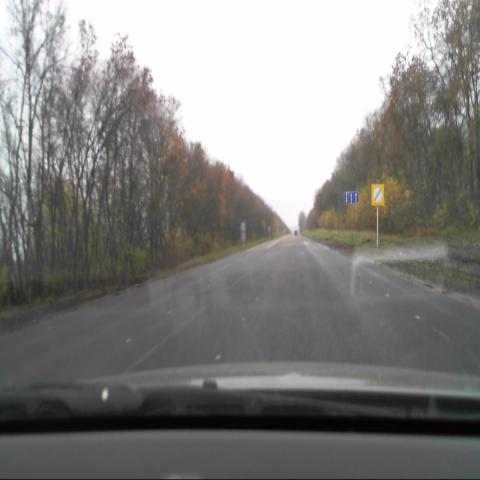3_31: (372, 183, 384, 205)
